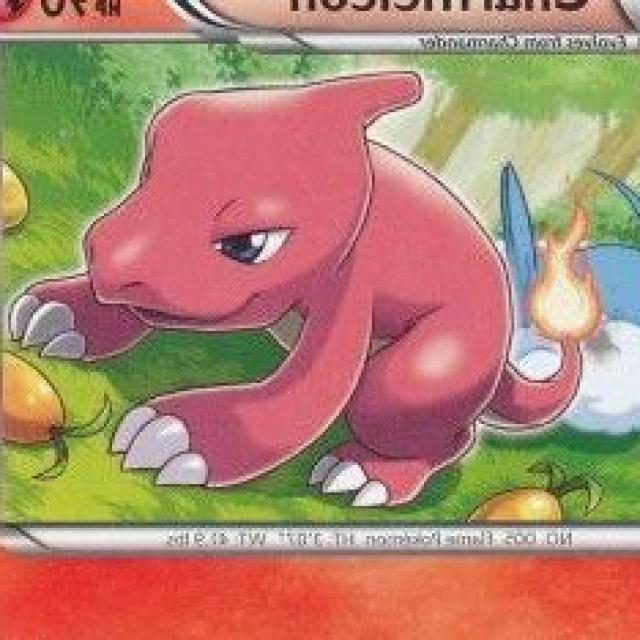Charmeleon: (46, 69, 528, 507)
